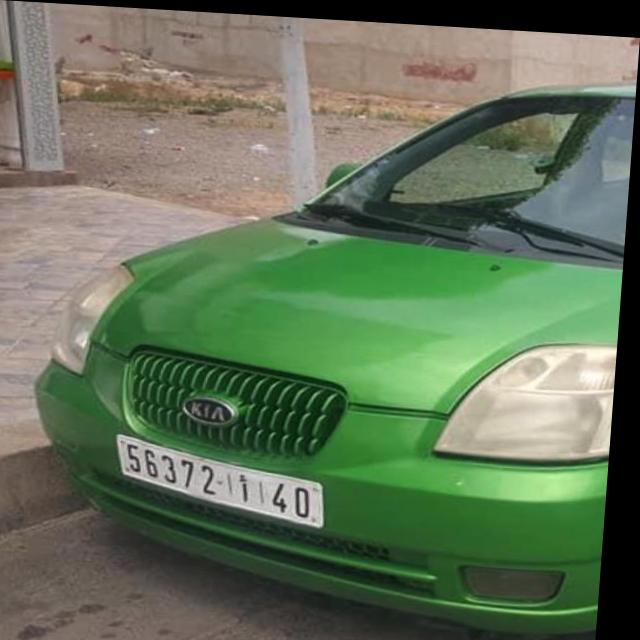License-Plate: (123, 432, 332, 523)
